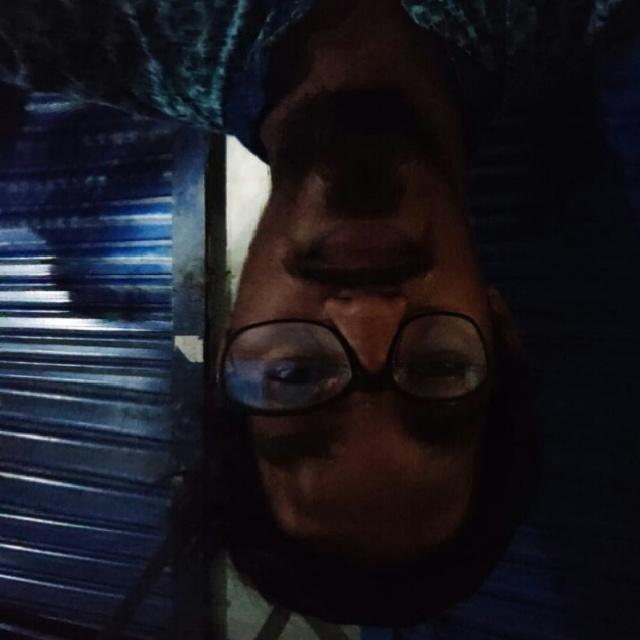Natural: (115, 55, 555, 540)
